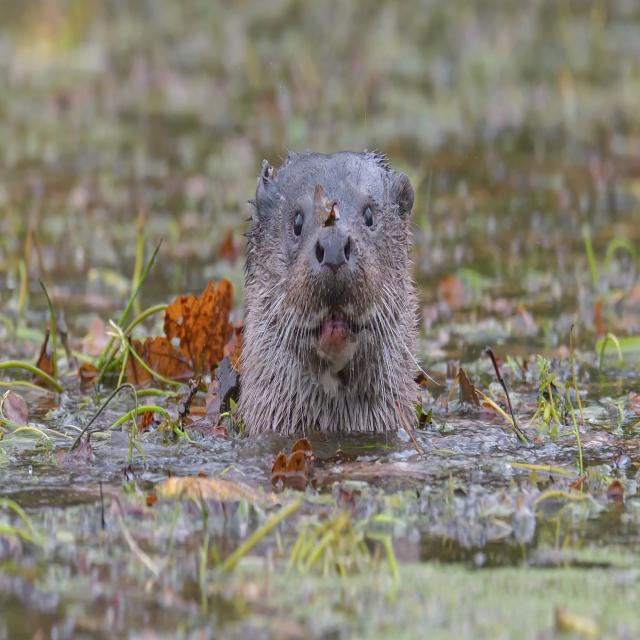otter: (248, 156, 413, 430)
